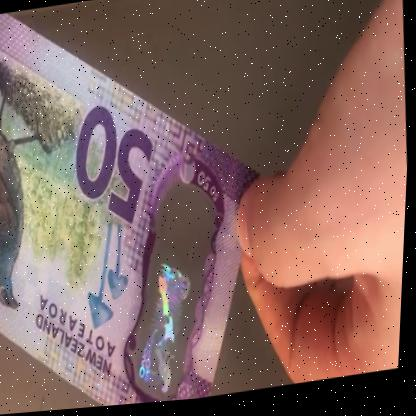50B: (127, 199, 211, 404)
